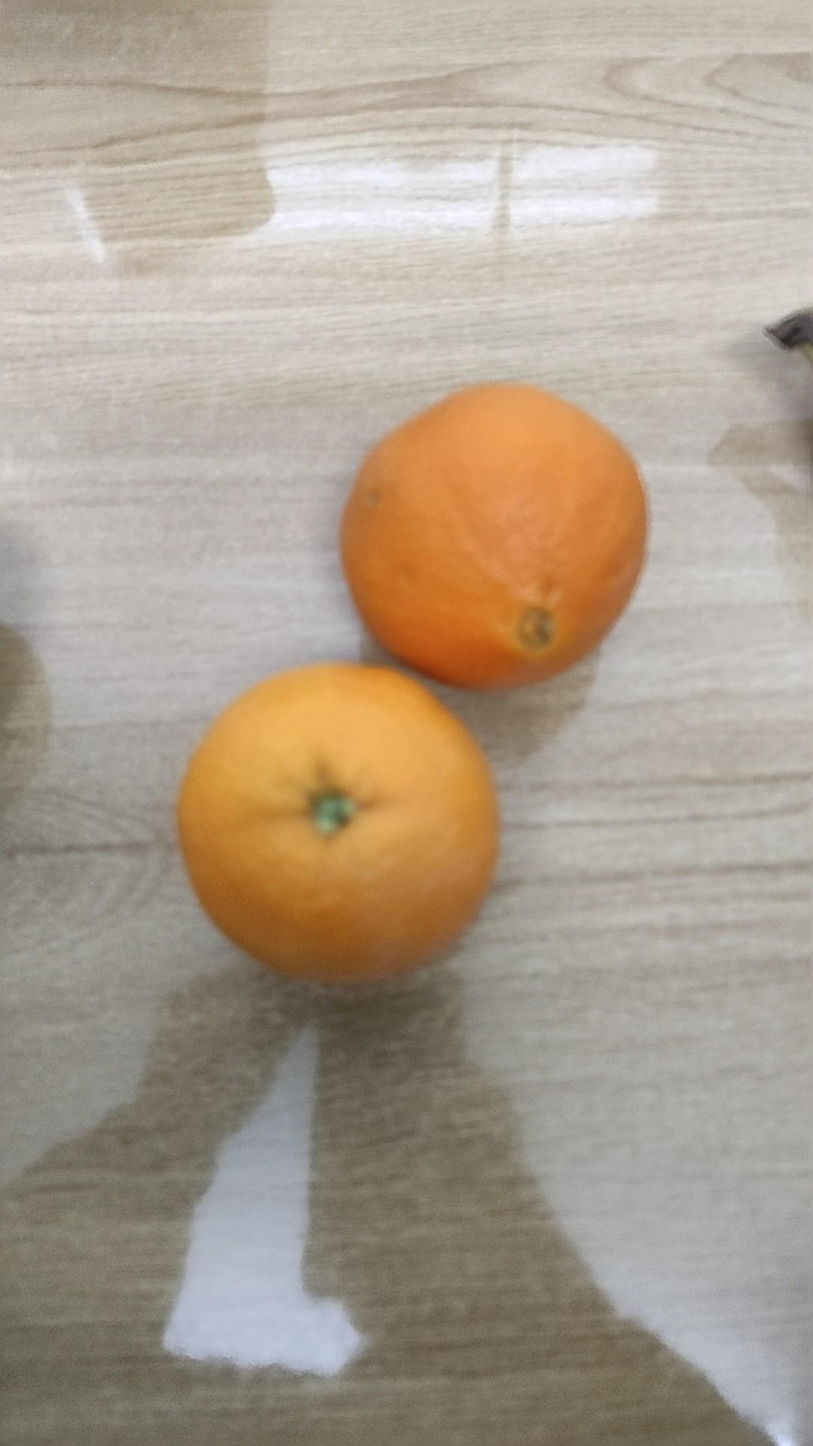fruit: (179, 663, 498, 984), (341, 384, 647, 688)
